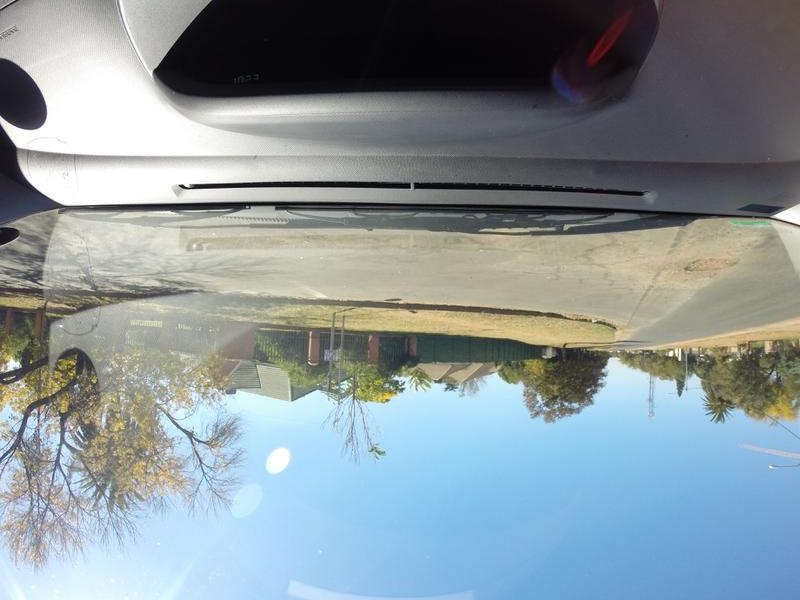pothole: (680, 253, 751, 285)
